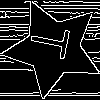T: (28, 23, 80, 62)
